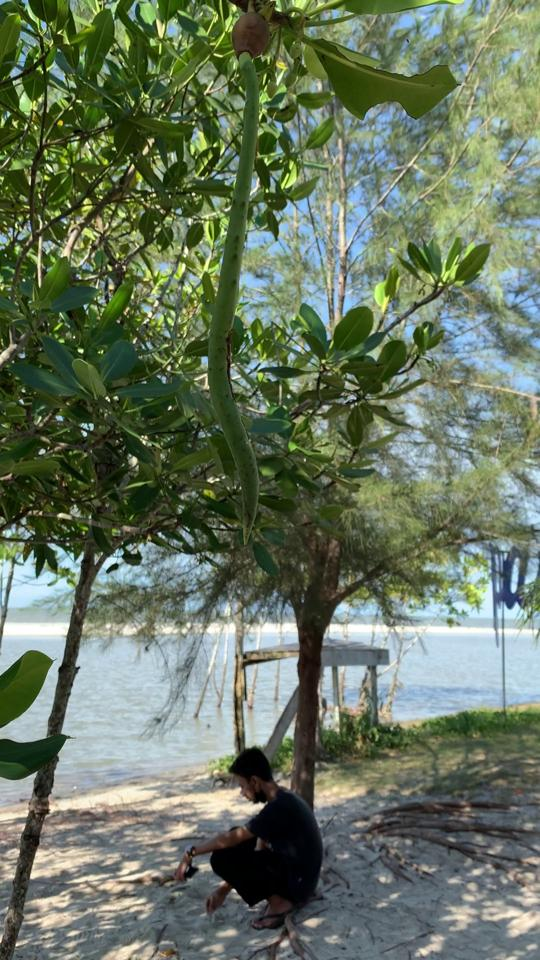setengah matang: (200, 12, 286, 564)
